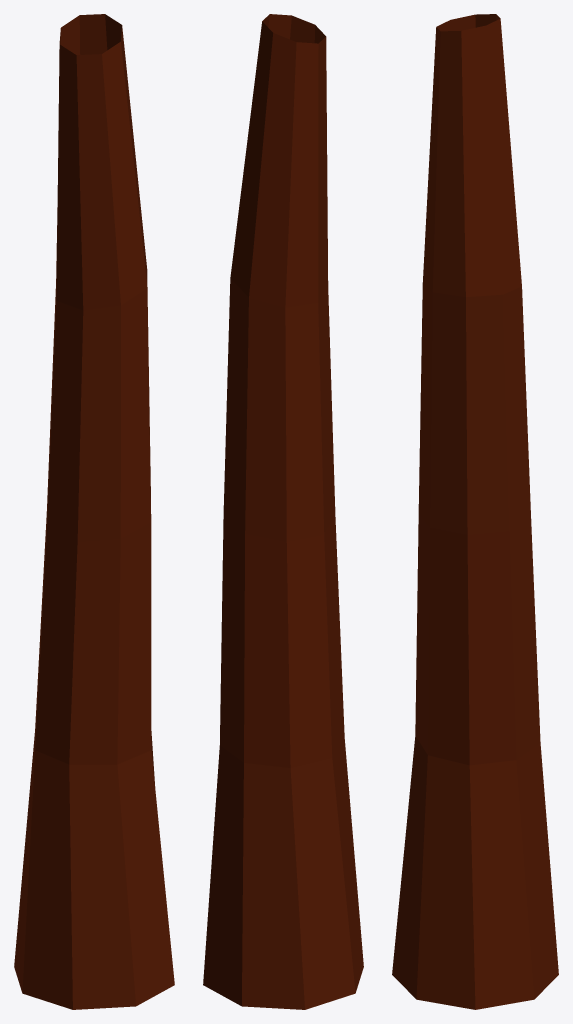
Rendered from Tree Trunk.fbx.
3 renders of one model, left to right at view 1: azimuth 30°, elevation 25°; view 2: azimuth 150°, elevation 25°; view 3: azimuth 270°, elevation 25°, orthographic.
Parts seen in each view (by area): view 1: Tree; view 2: Tree; view 3: Tree.
Part boxes in pixels (x1=…): Tree: x1=14, y1=14, x2=174, y2=1009; Tree: x1=203, y1=14, x2=363, y2=1009; Tree: x1=392, y1=14, x2=558, y2=1009.
Bounding box in the file's own units: 200 × 1265 × 200.
